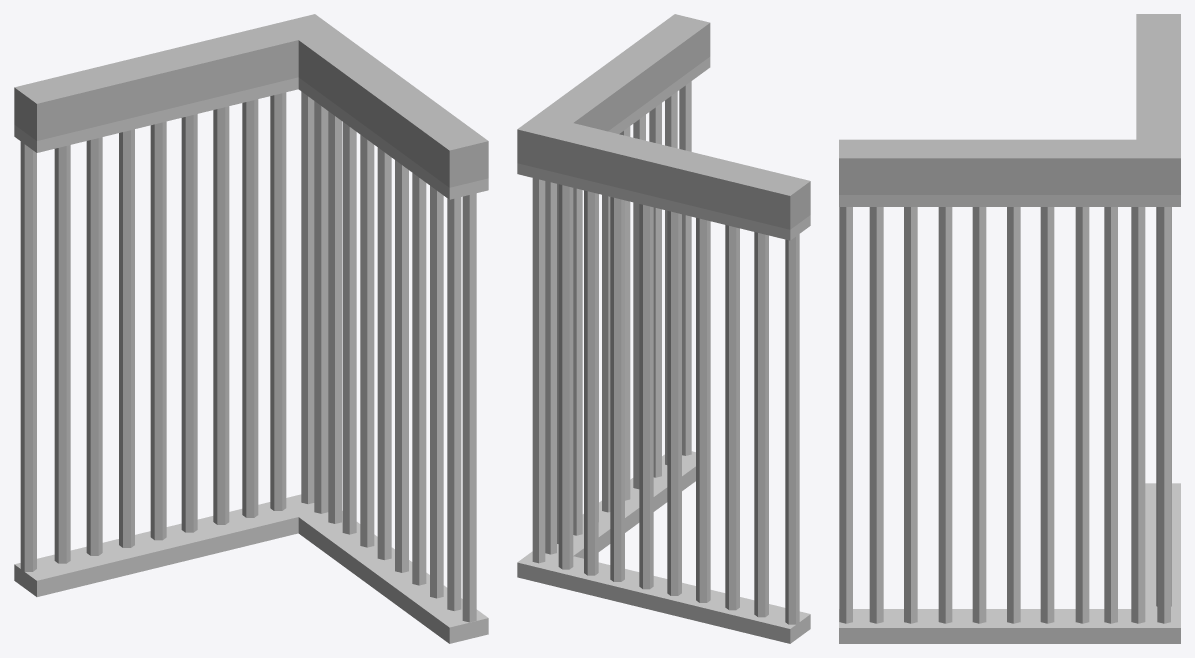
File: P_Jail_Corner_Inside_1.fbx
The picture shows the model from 3 angles, left to right: view 1: azimuth 30°, elevation 25°; view 2: azimuth 150°, elevation 25°; view 3: azimuth 270°, elevation 25°; orthographic projection. The views are drawn at different scales.
Parts seen in each view (by area): view 1: P_Jail_Corner_Inside_1; view 2: P_Jail_Corner_Inside_1; view 3: P_Jail_Corner_Inside_1.
Part boxes in pixels (x1,y1,x2,y2): P_Jail_Corner_Inside_1: (14,14,488,643); P_Jail_Corner_Inside_1: (517,14,810,643); P_Jail_Corner_Inside_1: (839,14,1180,643).
Size of the model in its own units: 1000 by 1000 by 1568.
